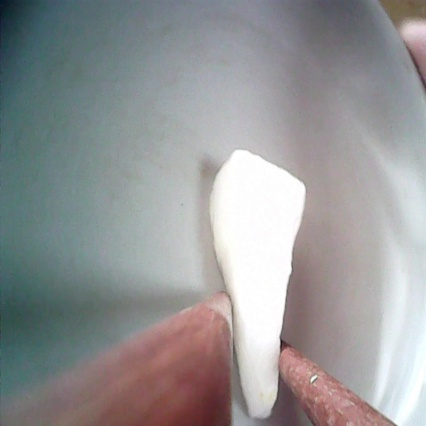white_chinese-yam: (210, 147, 309, 426)
